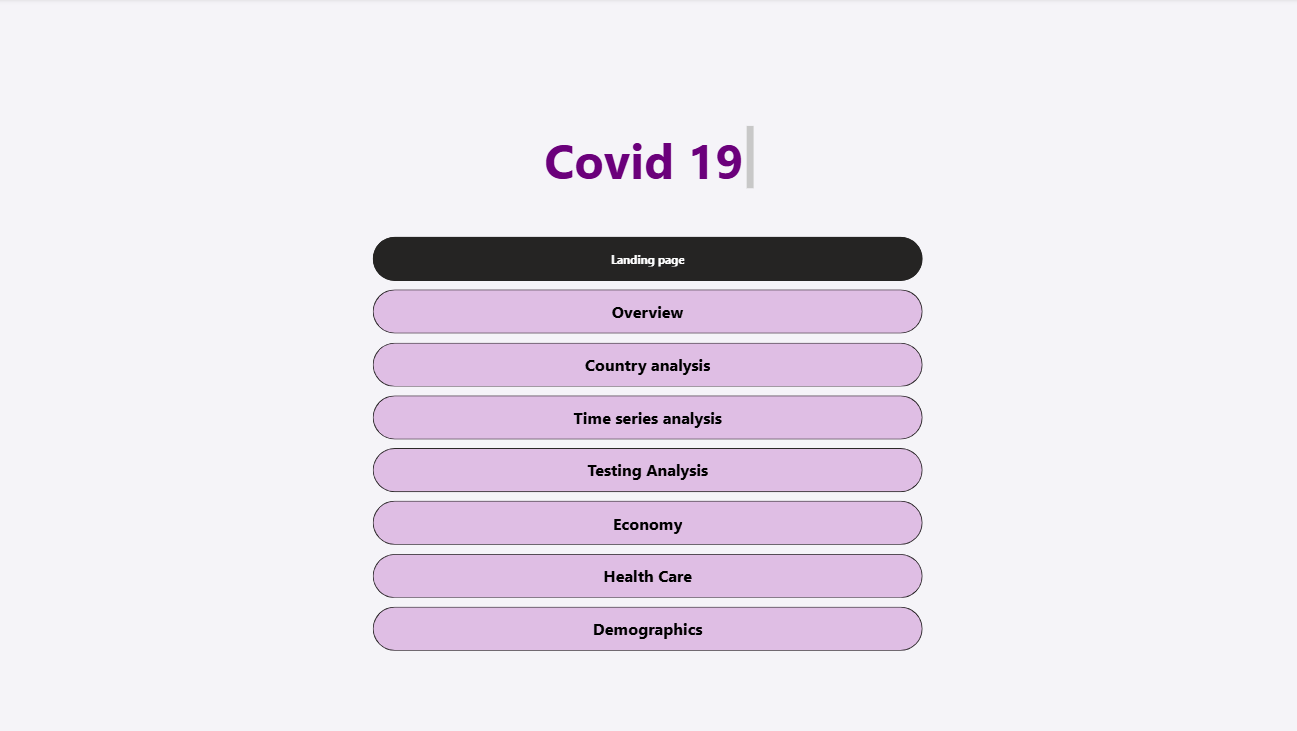

The dashboard page shown, as its layout file describes it:
{"tool":"powerbi","page":{"name":"Landing page","canvas":[1500,850],"ordinal":0},"visuals":[{"type":"textbox","box":[625.1,142.9,251.2,83.7],"z":1000},{"type":"pageNavigator","box":[431.6,275.7,635.2,482.2],"z":2000}]}

Visuals, with their boxes in screenshot pixels (x1, y1, x2, y2), scaled from the page's 1500x850 canvas onto the 1297x731 screenshot:
textbox: left=541, top=123, right=758, bottom=195
pageNavigator: left=373, top=237, right=922, bottom=652
